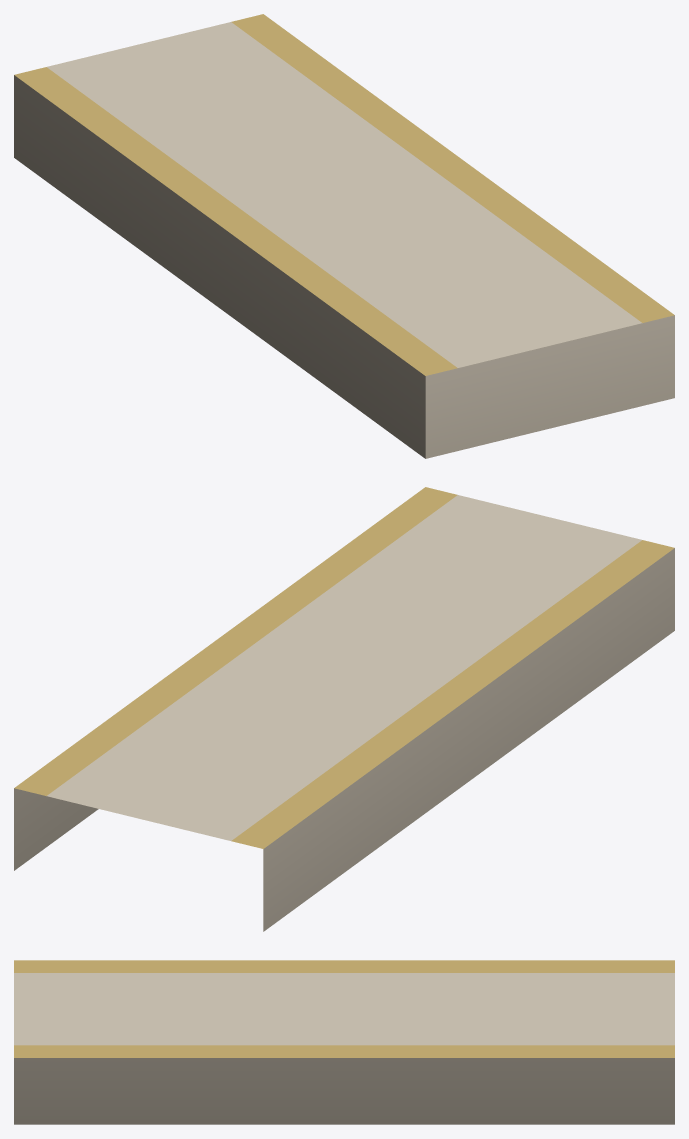
Rendered from road-straight.glb.
3 views of the same model, one above another, from view 1: azimuth 30°, elevation 25°; view 2: azimuth 150°, elevation 25°; view 3: azimuth 270°, elevation 25° (orthographic). The views are drawn at different scales.
Parts seen in each view (by area): view 1: root_mesh; view 2: root_mesh; view 3: root_mesh.
Boxes of the visible parts, x1,y1,x2,y2 form: root_mesh: (14,14,674,458); root_mesh: (14,487,674,931); root_mesh: (14,960,674,1124).
Size of the model in its own units: 0.77 by 0.2444 by 2.2.
